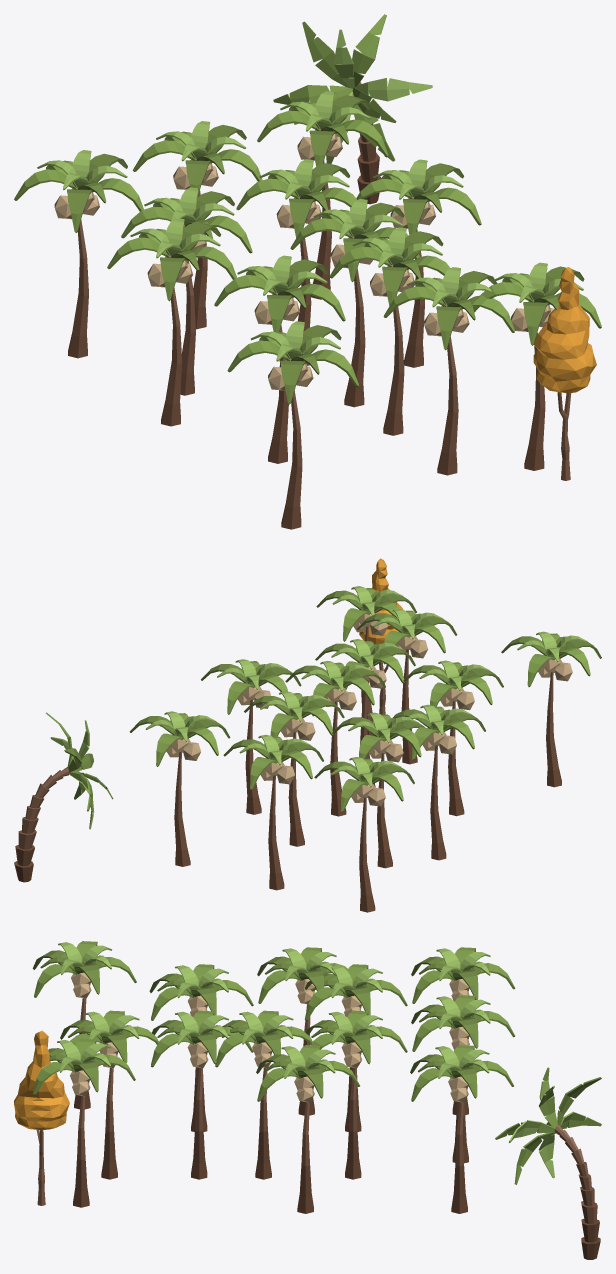
3 views of the same model, one above another, from view 1: azimuth 30°, elevation 25°; view 2: azimuth 150°, elevation 25°; view 3: azimuth 270°, elevation 25° (orthographic). The views are drawn at different scales.
Visible parts, largest first — view 1: palm_2, palm_1.046, palm_1.048, palm_1.044, palm_1.130, tropical_tree_2, palm_1.129, palm_1.045, palm_1.115, palm_1.117, palm_1.151, palm_1.116 (+3 smaller); view 2: palm_1.048, palm_1.117, palm_1.151, palm_1.046, palm_1.044, palm_2, palm_1.128, palm_1.045, palm_1.047, palm_1.131, palm_1.115, palm_1.130 (+3 smaller); view 3: palm_2, palm_1.117, palm_1.115, palm_1.129, palm_1.116, palm_1.128, tropical_tree_2, palm_1.131, palm_1.130, palm_1.151, palm_1.046, palm_1.045 (+3 smaller).
Boxes of the visible parts, x1,y1,x2,y2 form: palm_2: (273, 14, 432, 204); palm_1.046: (227, 321, 358, 529); palm_1.048: (14, 150, 143, 358); palm_1.044: (107, 218, 236, 426); palm_1.130: (383, 267, 514, 475); tropical_tree_2: (533, 267, 596, 480); palm_1.129: (329, 227, 450, 435); palm_1.045: (214, 255, 345, 463); palm_1.115: (350, 159, 481, 367); palm_1.117: (257, 91, 388, 299); palm_1.151: (132, 121, 262, 329); palm_1.116: (473, 262, 601, 470); palm_1.048: (314, 757, 414, 912); palm_1.117: (129, 711, 230, 866); palm_1.151: (223, 734, 323, 890); palm_1.046: (501, 631, 601, 787); palm_1.044: (393, 704, 485, 860); palm_2: (14, 712, 113, 882); palm_1.128: (244, 691, 344, 846); palm_1.045: (403, 660, 503, 816); palm_1.047: (332, 712, 424, 868); palm_1.131: (285, 661, 385, 816); palm_1.115: (201, 659, 301, 814); palm_1.130: (356, 608, 457, 764); palm_2: (495, 1067, 601, 1259); palm_1.117: (410, 1045, 513, 1213); palm_1.115: (256, 1045, 359, 1213); palm_1.129: (151, 1010, 253, 1179); palm_1.116: (33, 1038, 135, 1207); palm_1.128: (306, 1010, 407, 1179); tropical_tree_2: (14, 1030, 69, 1205); palm_1.131: (215, 1010, 312, 1179); palm_1.130: (60, 1010, 158, 1179); palm_1.151: (411, 995, 514, 1163); palm_1.046: (32, 941, 136, 1109); palm_1.045: (149, 964, 253, 1131).
Bounding box in the file's own units: 15.41 × 6.9 × 20.83.
14 materials, 14 textured.
